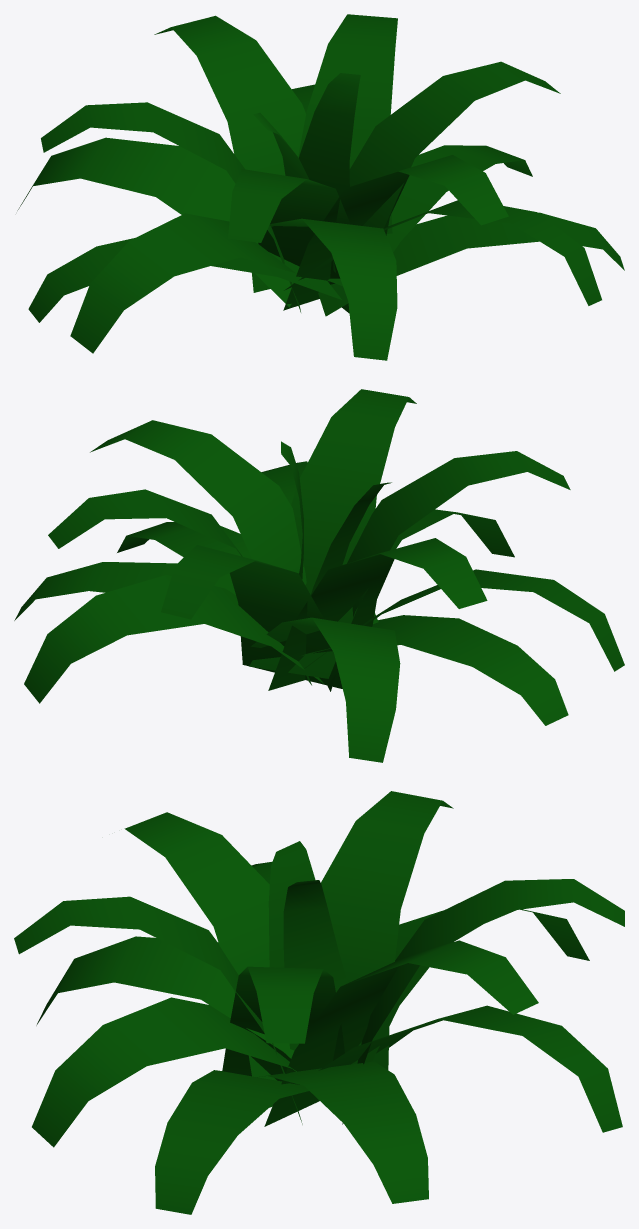
The model's file is plant.fbx.
3 renders of one model, top to bottom at view 1: azimuth 30°, elevation 25°; view 2: azimuth 150°, elevation 25°; view 3: azimuth 270°, elevation 25°, orthographic. The views are drawn at different scales.
Visible parts, largest first — view 1: Plane.001; view 2: Plane.001; view 3: Plane.001.
Boxes of the visible parts, x1,y1,x2,y2 form: Plane.001: [17, 14, 624, 360]; Plane.001: [14, 389, 624, 762]; Plane.001: [14, 791, 624, 1214].
Bounding box in the file's own units: 95.02 × 36.53 × 86.43.
